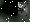person: (20, 4, 28, 16)
